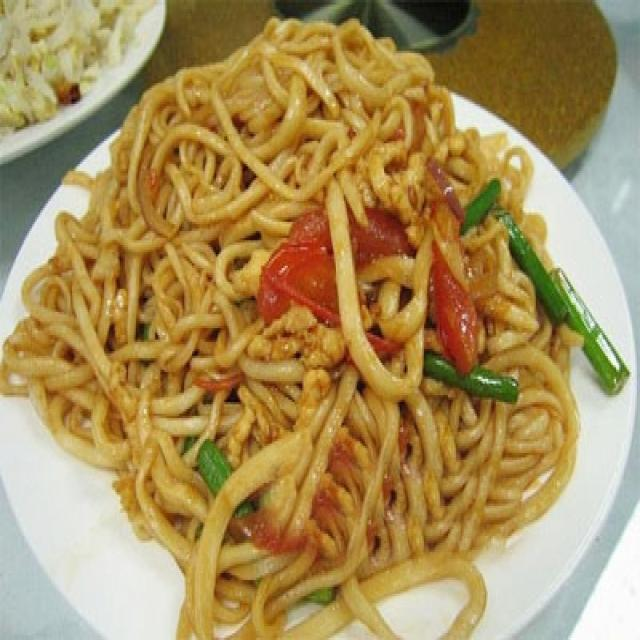面条主食: (5, 25, 632, 603)
